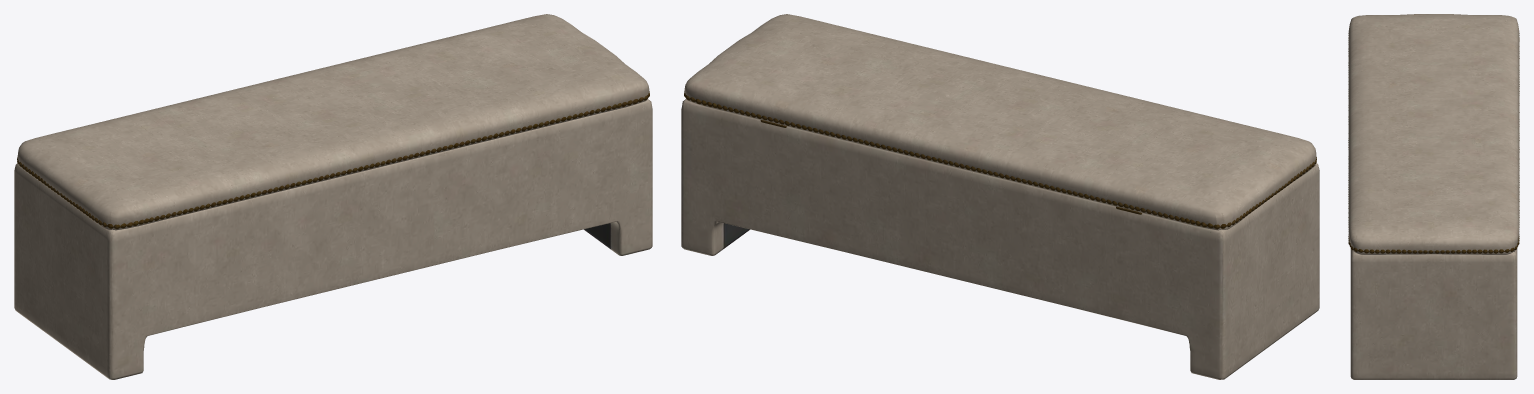
Rendered from abo-B075QFCZ1Z.glb.
The picture shows the model from 3 angles, left to right: view 1: azimuth 30°, elevation 25°; view 2: azimuth 150°, elevation 25°; view 3: azimuth 270°, elevation 25°; orthographic projection. The views are drawn at different scales.
Bounding box in the file's own units: 1.48 × 0.447 × 0.47.
1 material, 1 textured.
